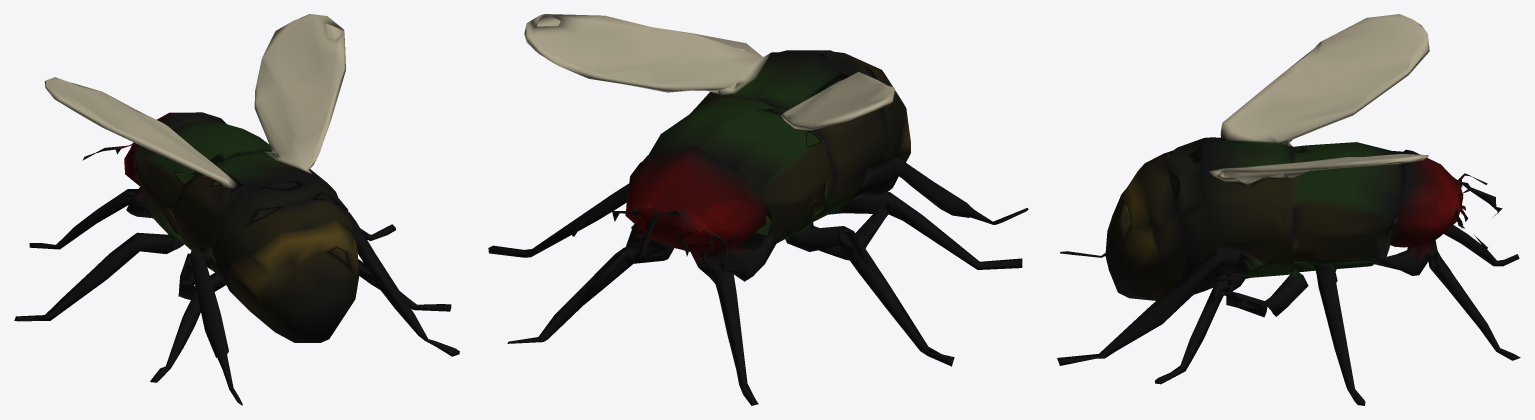
The model's file is gen3d-housefly-lod0.glb.
3 renders of one model, left to right at view 1: azimuth 30°, elevation 25°; view 2: azimuth 150°, elevation 25°; view 3: azimuth 270°, elevation 25°, orthographic. The views are drawn at different scales.
Visible parts, largest first — view 1: part_0; view 2: part_0; view 3: part_0.
Boxes of the visible parts, bbox=[...] form: part_0: bbox=[14, 14, 459, 405]; part_0: bbox=[488, 14, 1028, 405]; part_0: bbox=[1057, 14, 1520, 405].
Size of the model in its own units: 1.86 by 1 by 1.88.
